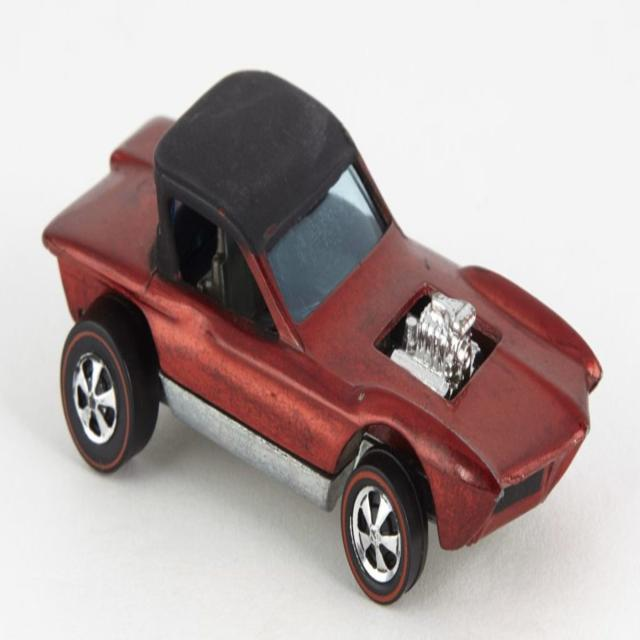Car: (41, 67, 604, 606)
